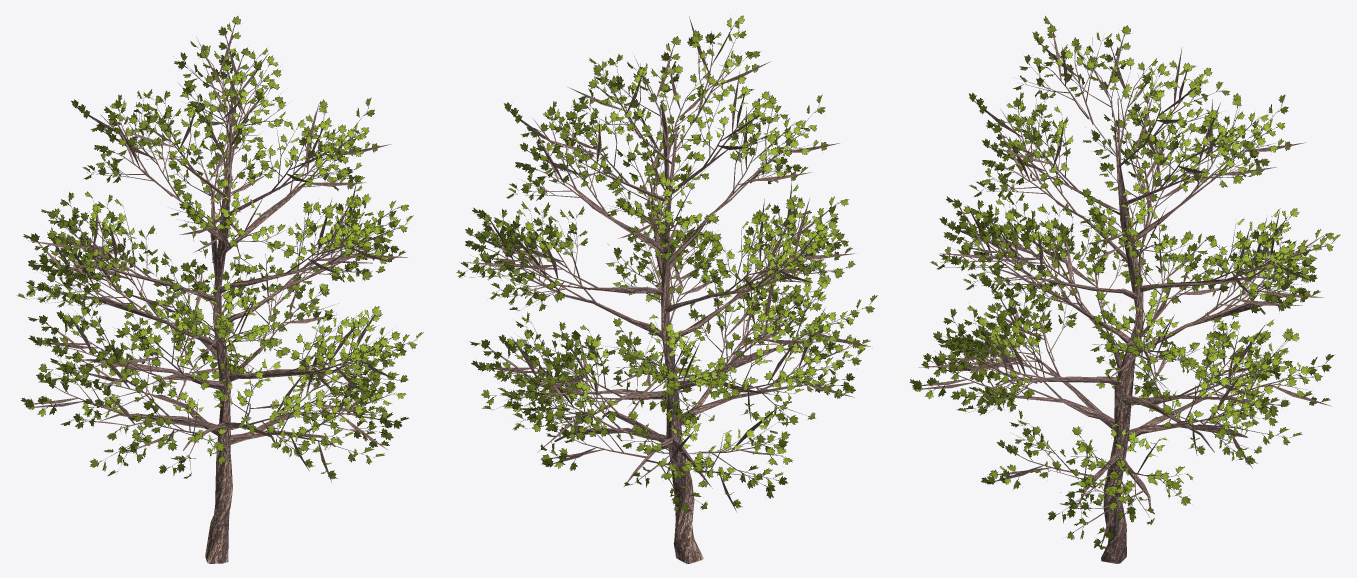
File: tree_maple.glb
3 renders of one model, left to right at view 1: azimuth 30°, elevation 25°; view 2: azimuth 150°, elevation 25°; view 3: azimuth 270°, elevation 25°, orthographic. The views are drawn at different scales.
Visible parts, largest first — view 1: m; view 2: m; view 3: m.
Boxes of the visible parts, box(x1,y1,x2,y2) form: m: box(17, 16, 423, 563); m: box(456, 15, 877, 563); m: box(909, 16, 1340, 563).
Size of the model in its own units: 0.7524 by 1 by 0.7387.
2 materials, 2 textured.
